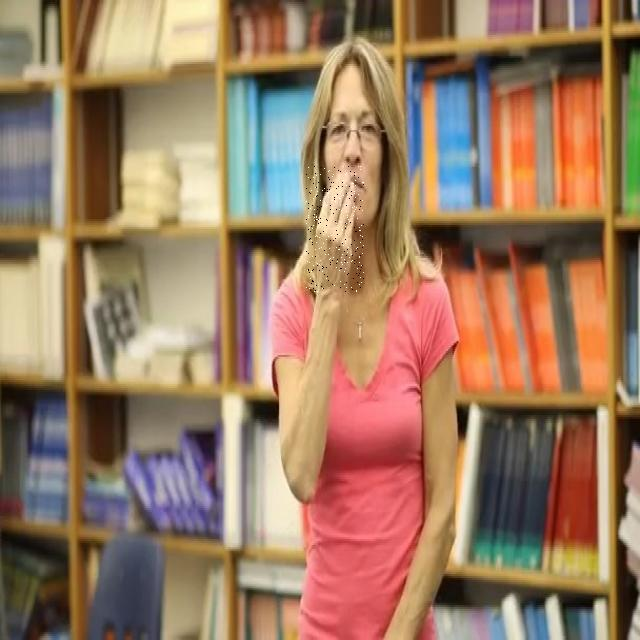warm: (306, 166, 364, 292)
